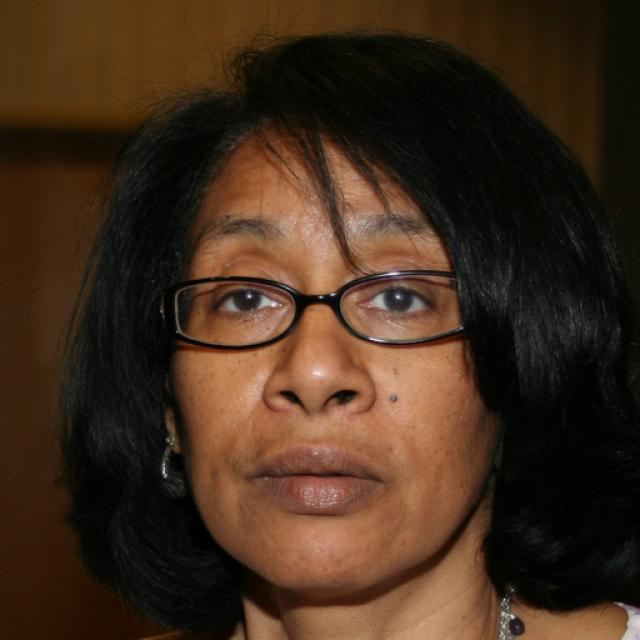Spots: (381, 387, 408, 412), (274, 342, 296, 360)
